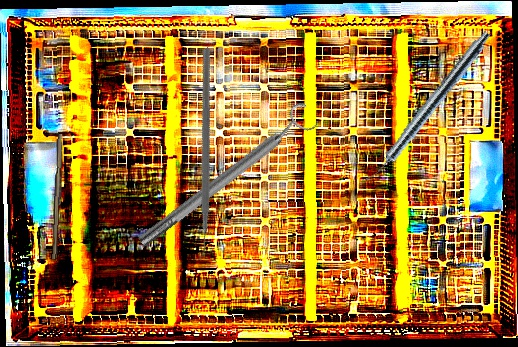Chopper: (98, 46, 300, 266)
Fixation Ring: (130, 99, 322, 255)
Handpiece: (362, 26, 494, 188)
Scalpel Handle: (51, 133, 65, 260)
